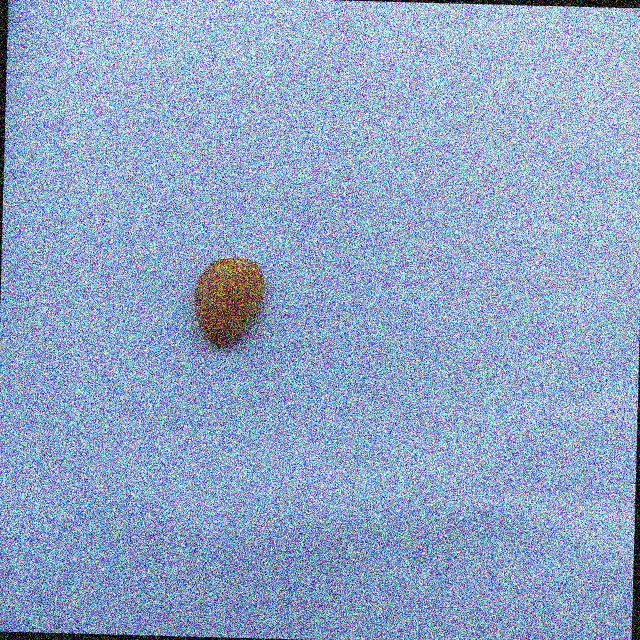grade2: (190, 254, 272, 352)
